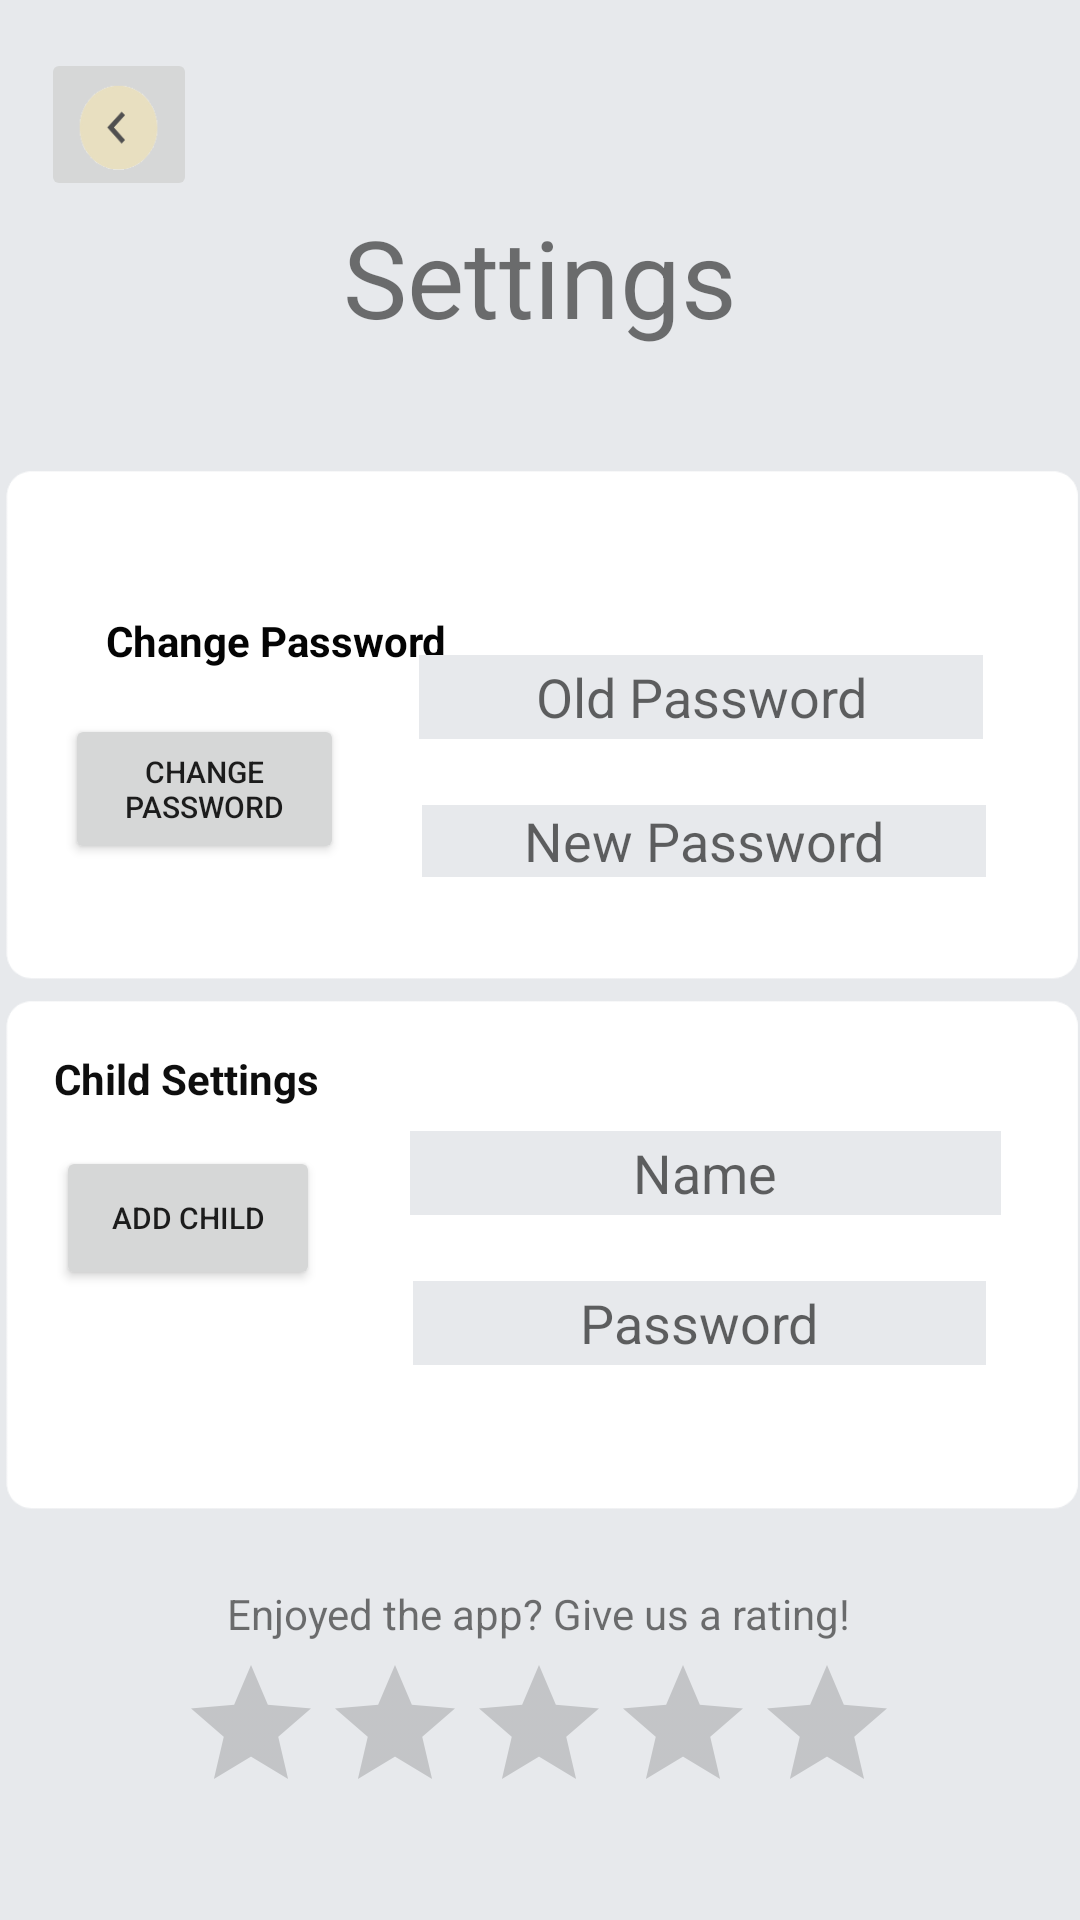

Screen size 1080 x 1920. Icon name, then its center in pixels as point (x, y):
back: point (118, 127)
